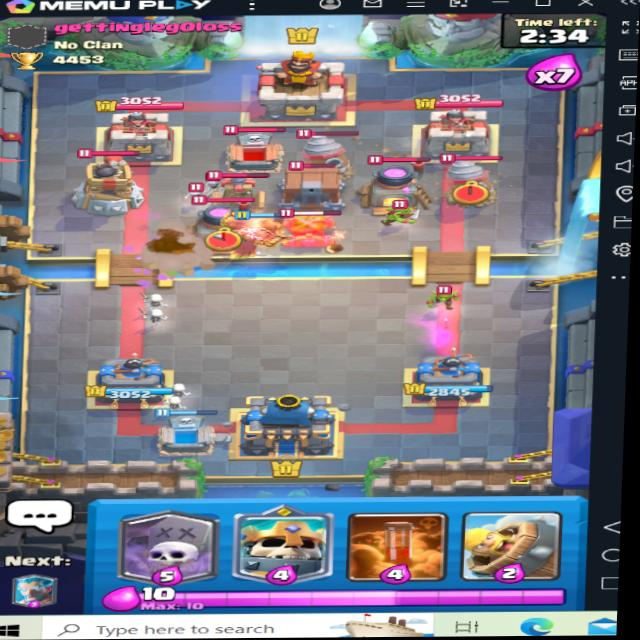bomb-tower: (67, 145, 149, 211)
furnace: (183, 193, 260, 253), (364, 152, 435, 217)
goblin: (428, 277, 465, 307), (381, 201, 417, 228)
goblin-cage: (271, 160, 348, 211)
goblin-drill: (436, 151, 503, 207), (295, 123, 364, 175)
mortar: (274, 207, 342, 249)
skeleton: (178, 183, 212, 208), (196, 174, 224, 191)
tesla: (196, 164, 269, 215)
tombstone: (217, 122, 291, 169)
